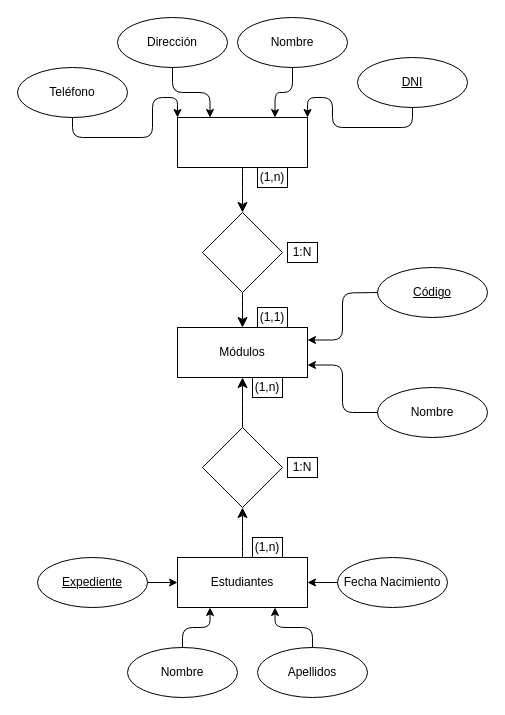
Image size: 505x715. Some labels were removed from this diagram. The shapes that lost their labels are listed below. From the top down, each one's centre as x and y in pixels, then its label:
pixel 242 142: Profesores
pixel 242 252: Enseñan
pixel 242 467: Inscr iben
